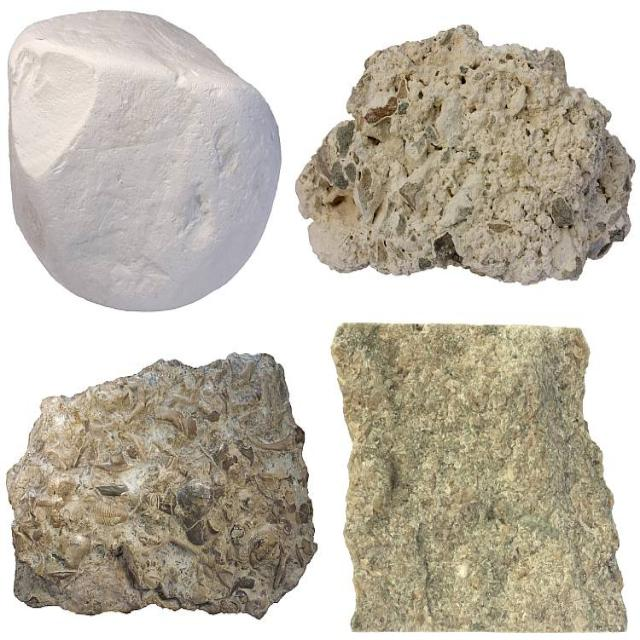Sedimentary: (328, 323, 624, 630), (296, 18, 636, 280), (9, 351, 324, 632), (5, 4, 291, 313)
